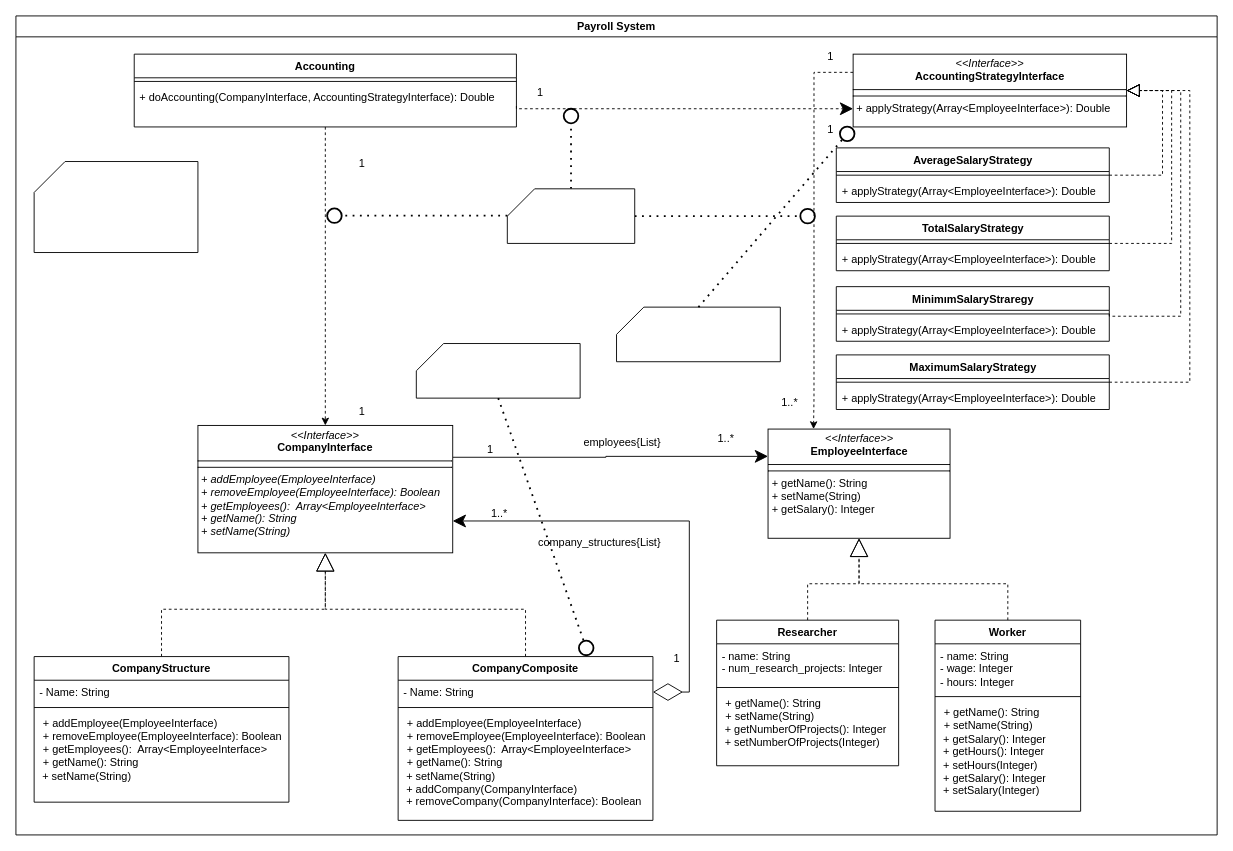
Some shapes in this 1233 by 851 pixel diagram are drawn without their labels. The shapes that lost their labels are listed below. From the top down, each one's centre as x and y in pixels, then its label:
(115,207): Fatih Baskın 150210710
(570,215): Parameter Visibility
(698,334): Strategy Design Patterm
(497,370): Composite Design Patterm
